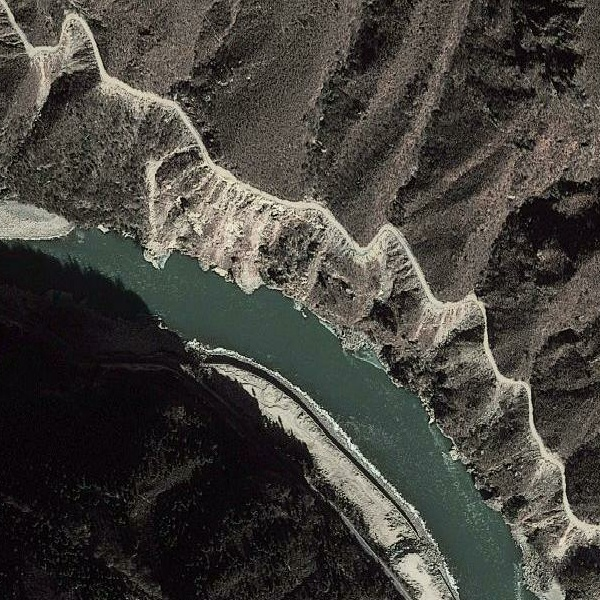slope: (139, 138, 283, 291), (29, 19, 97, 114)
